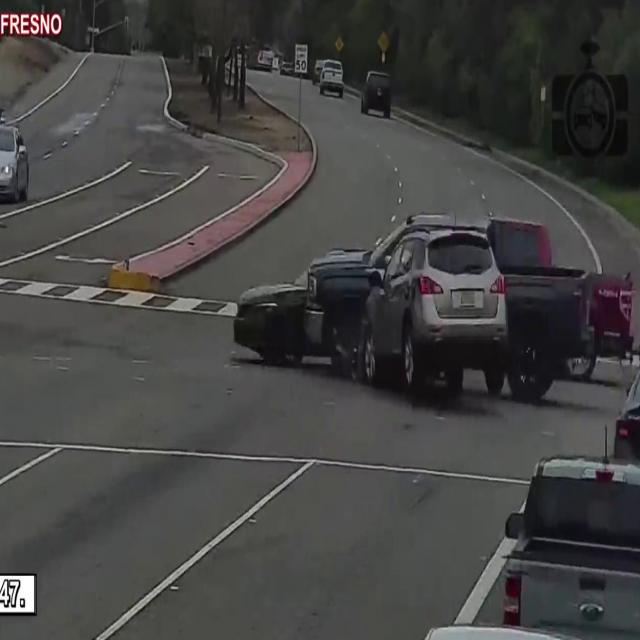accident: (221, 188, 587, 432)
